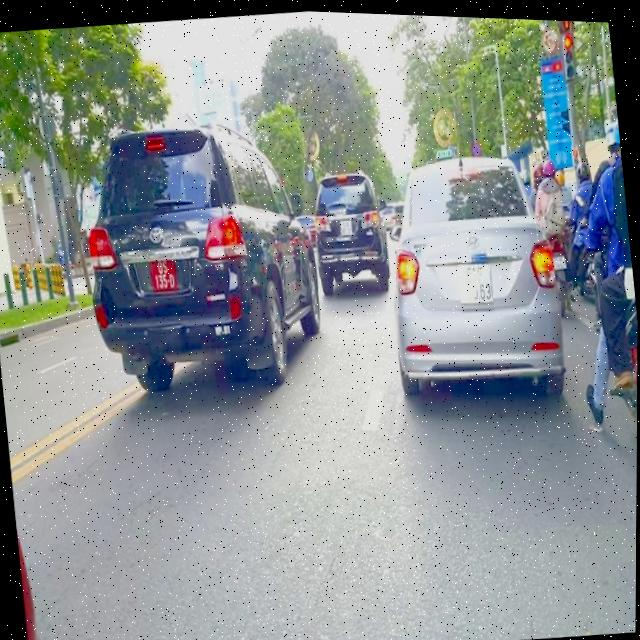car: (70, 100, 331, 405), (381, 151, 575, 415), (298, 161, 397, 300)
plate: (445, 258, 507, 316), (142, 250, 188, 299), (332, 214, 361, 241)
